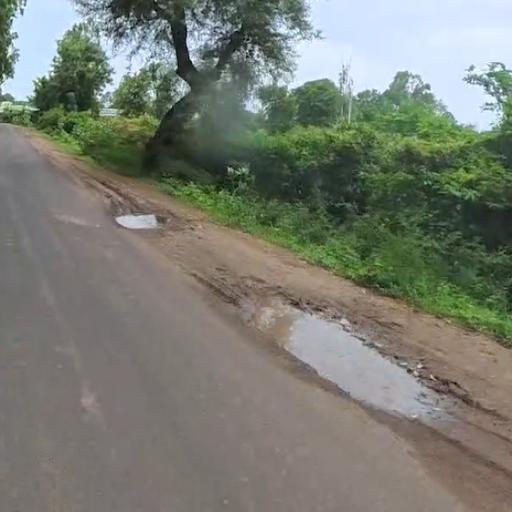pothole: (81, 166, 195, 261)
